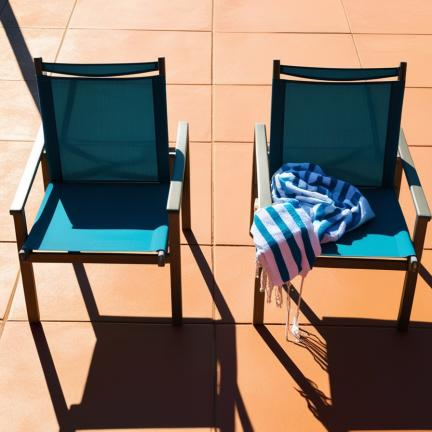empty chair: (10, 57, 191, 325)
occupied chair: (251, 60, 431, 330)
